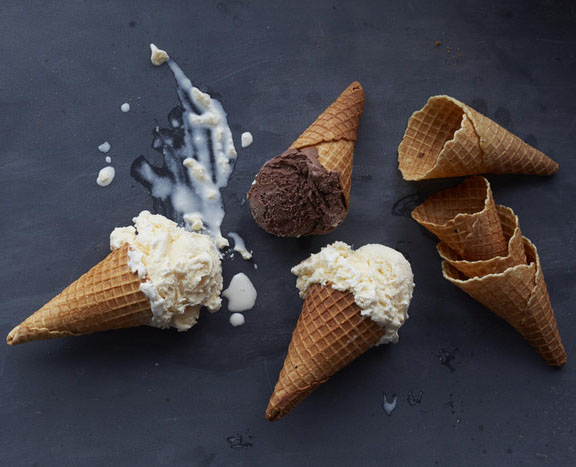ice-cream: (299, 240, 412, 337), (133, 213, 220, 329), (248, 151, 344, 238)
